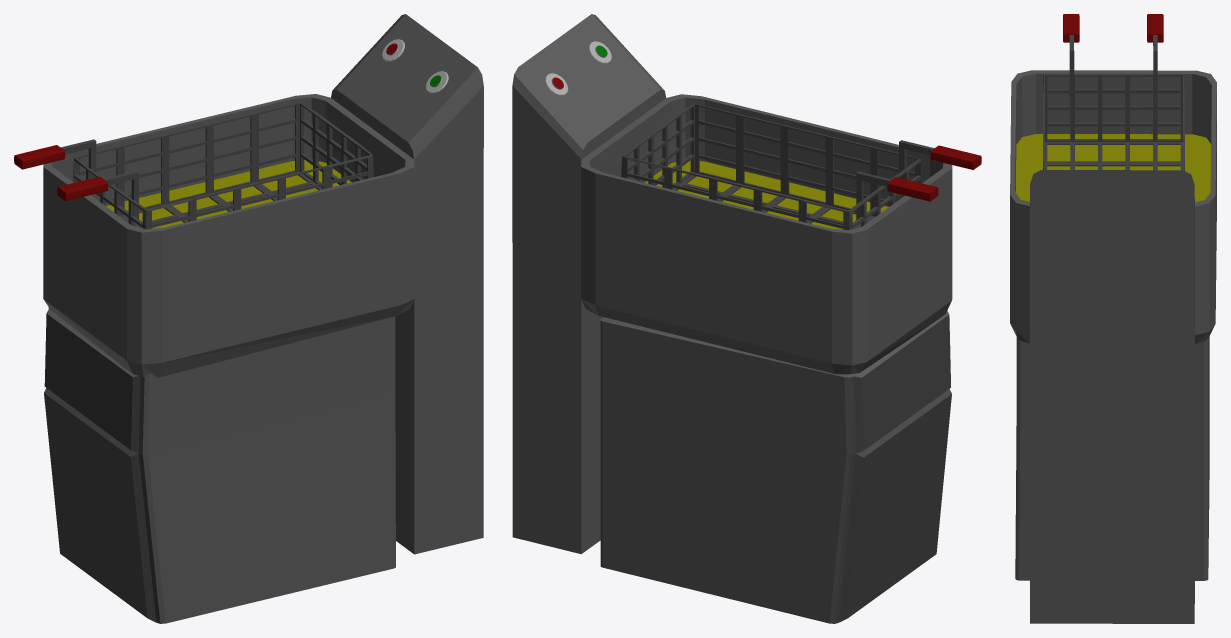
File: Obj_Freidora_002.fbx
3 renders of one model, left to right at view 1: azimuth 30°, elevation 25°; view 2: azimuth 150°, elevation 25°; view 3: azimuth 270°, elevation 25°, orthographic. The views are drawn at different scales.
Visible parts, largest first — view 1: Obj_Freidora_001:pCube7, Obj_Freidora_001:canasta1; view 2: Obj_Freidora_001:pCube7, Obj_Freidora_001:canasta1; view 3: Obj_Freidora_001:pCube7, Obj_Freidora_001:canasta1.
Boxes of the visible parts, x1,y1,x2,y2 form: Obj_Freidora_001:pCube7: (43,14,483,623); Obj_Freidora_001:canasta1: (14,102,373,229); Obj_Freidora_001:pCube7: (512,14,952,623); Obj_Freidora_001:canasta1: (621,103,981,230); Obj_Freidora_001:pCube7: (1010,70,1216,623); Obj_Freidora_001:canasta1: (1043,14,1184,170).
Bounding box in the file's own units: 5.67 × 6.31 × 2.6.
